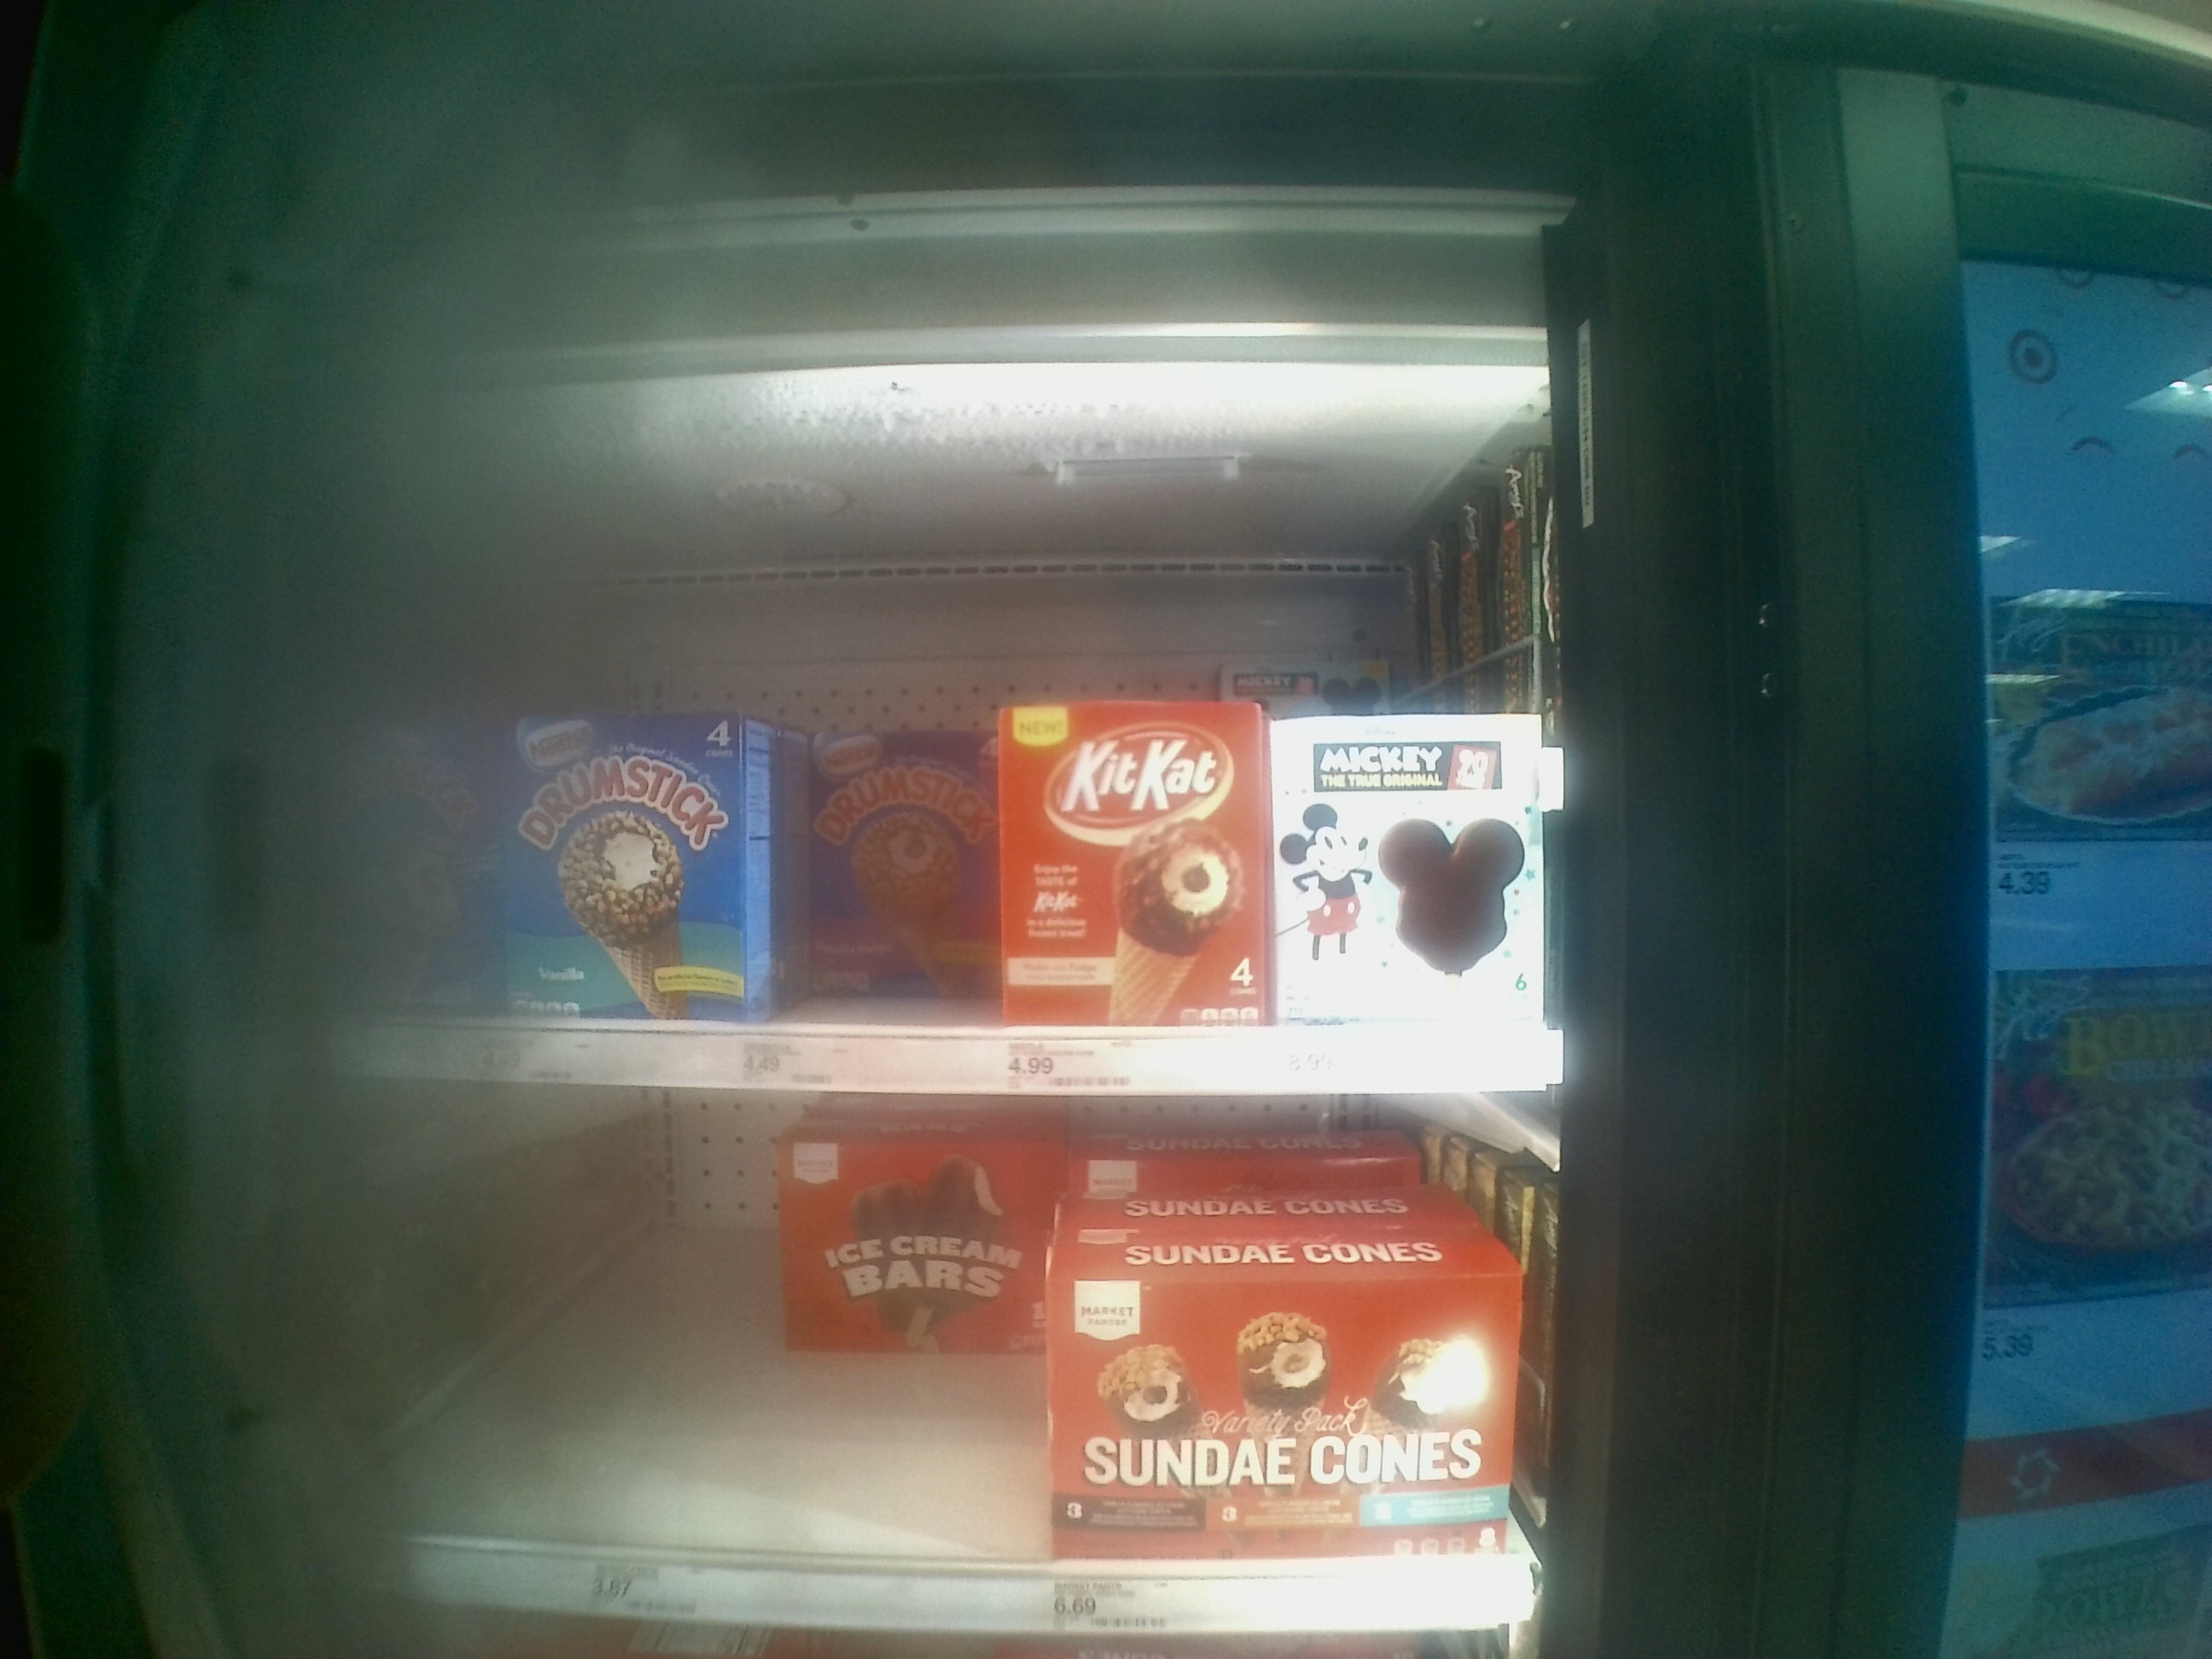ice-cream-shelf: (331, 521, 1575, 1087), (324, 1093, 1538, 1642)
